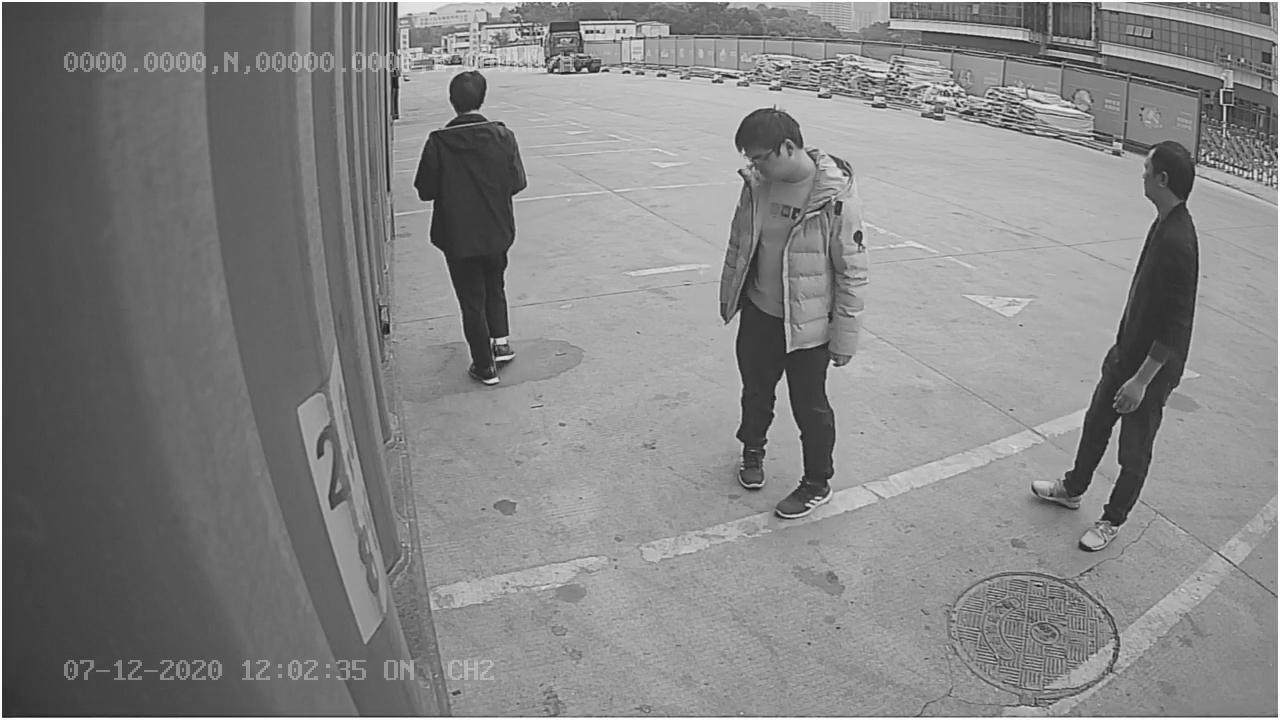person: (1030, 137, 1204, 551), (713, 106, 867, 521), (413, 73, 528, 387)
